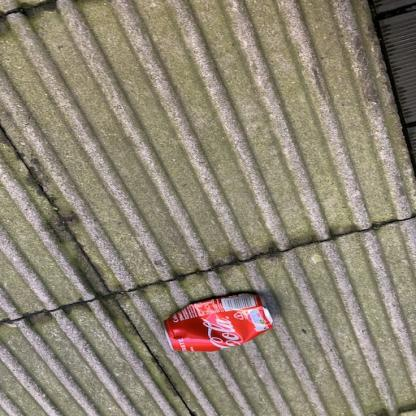trash: (161, 291, 275, 359)
